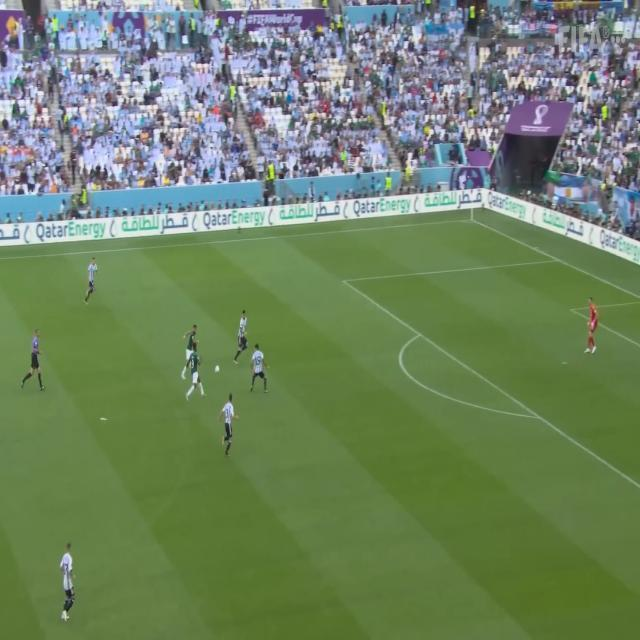football: (208, 362, 228, 383)
